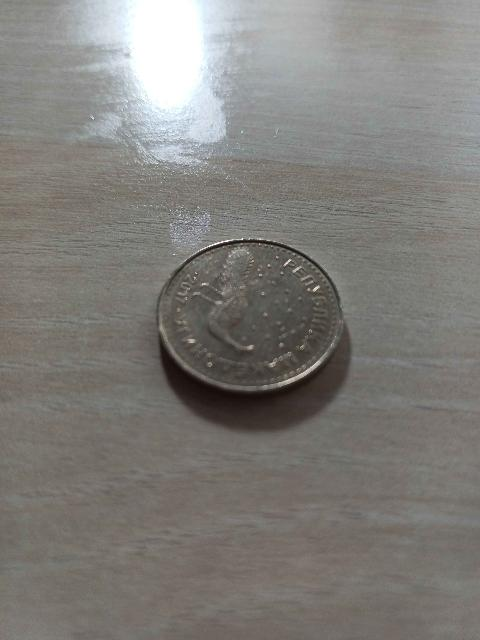10_coin: (158, 240, 342, 392)
